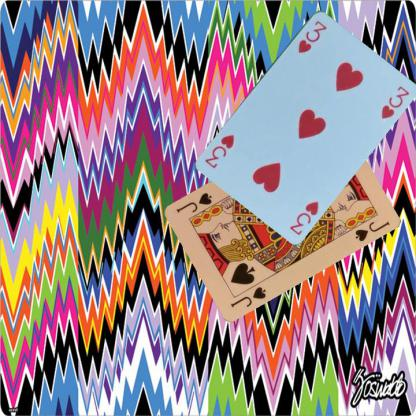3h: (287, 198, 320, 236), (295, 18, 328, 54)
Js: (228, 284, 268, 308)
